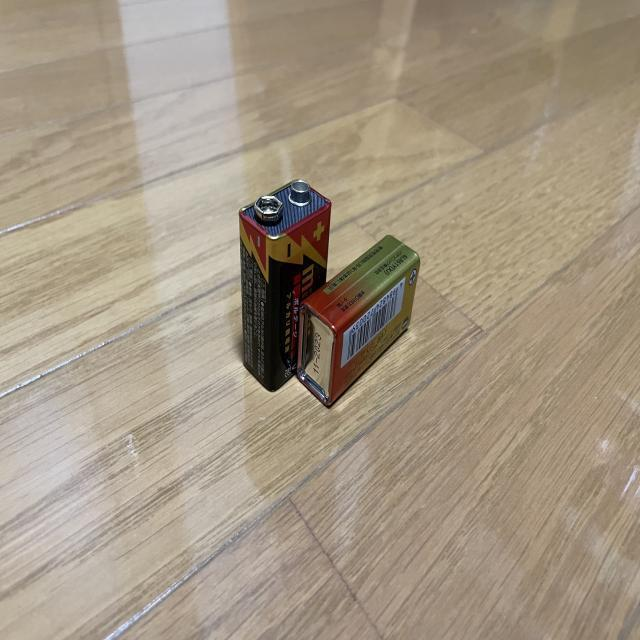9V: (296, 236, 420, 408), (238, 179, 332, 394)
